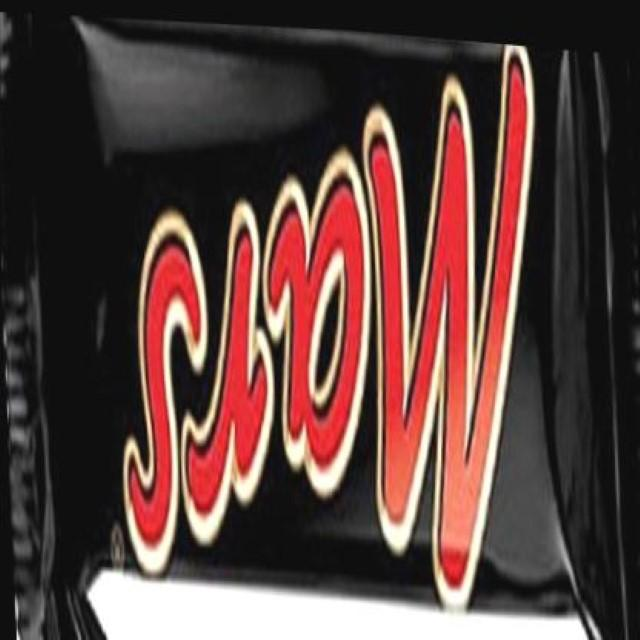mars_chocolate: (31, 6, 640, 581)
